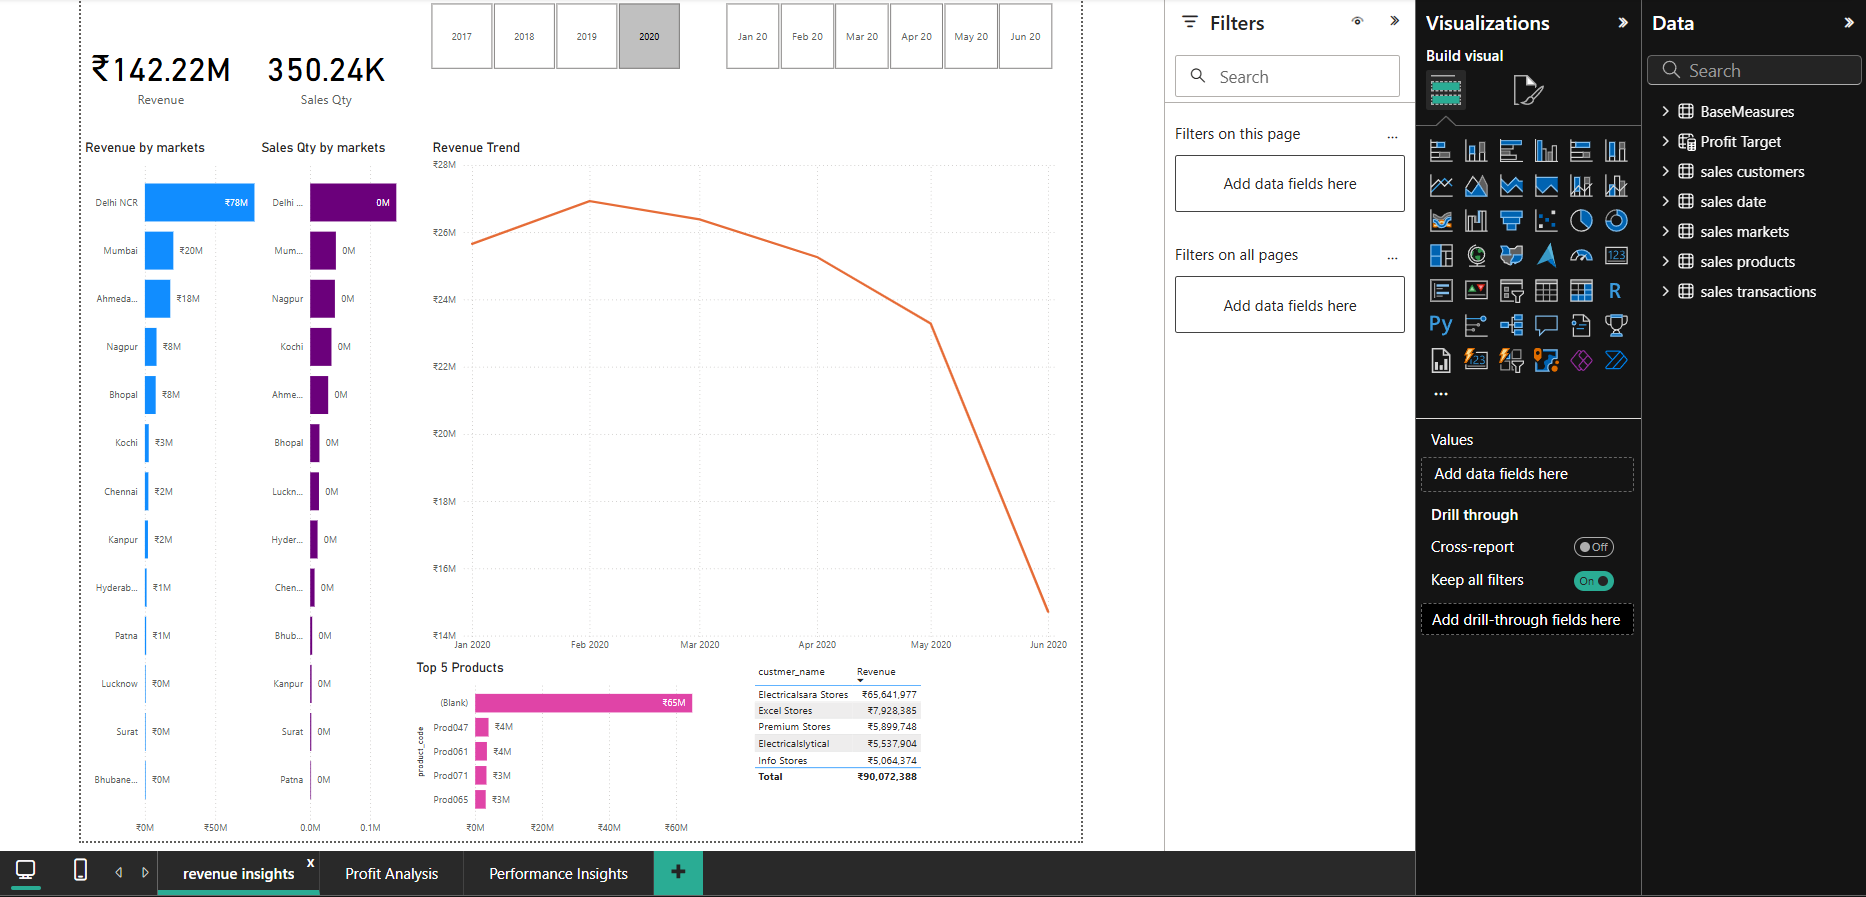

Layout of this report page (visuals, bound fields, positions):
{"tool":"powerbi","page":{"name":"Key insights","canvas":[1280,1080],"ordinal":0},"visuals":[{"type":"card","fields":{"Values":["BaseMeasures.Revenue"]},"box":[0,0,204.8,196.4],"z":0},{"type":"card","fields":{"Values":["BaseMeasures.Sales Qty"]},"box":[204.8,0,218.7,196.4],"z":1000},{"type":"barChart","title":"Revenue by markets","fields":{"Y":["BaseMeasures.Revenue"],"Category":["sales markets.markets_name"]},"box":[0,180.9,275.3,899.5],"z":2000},{"type":"barChart","title":"Sales Qty by markets","fields":{"Y":["BaseMeasures.Sales Qty"],"Category":["sales markets.markets_name"]},"box":[225.7,180.9,219.3,899.5],"z":3000},{"type":"slicer","fields":{"Values":["sales date.year"]},"box":[422.5,0,368.1,97.6],"z":4000},{"type":"slicer","fields":{"Values":["sales date.cy_date"]},"box":[800.2,0,467.3,97.6],"z":5000},{"type":"tableEx","title":"Top 5 Costumers","fields":{"Values":["sales customers.custmer_name","BaseMeasures.Revenue"]},"box":[856.3,846.7,424.1,233.7],"z":6000},{"type":"barChart","title":"Top 5 Products","fields":{"Y":["BaseMeasures.Revenue"],"Category":["sales products.product_code"]},"box":[424.1,846.7,416.1,233.7],"z":7000},{"type":"lineChart","title":"Revenue Trend","fields":{"Y":["BaseMeasures.Revenue"],"Category":["sales date.cy_date"]},"box":[444.9,180.9,822.6,665.8],"z":8000}]}

Visuals, with their boxes on the page's 1280x1080 design canvas (x1, y1, x2, y2). These are canvas units, not pixel positions in the 1866x897 screenshot, which may show the page scaled, cropped or inside an application window:
card - BaseMeasures.Revenue: [x1=0, y1=0, x2=205, y2=196]
card - BaseMeasures.Sales Qty: [x1=205, y1=0, x2=424, y2=196]
"Revenue by markets" barChart: [x1=0, y1=181, x2=275, y2=1080]
"Sales Qty by markets" barChart: [x1=226, y1=181, x2=445, y2=1080]
slicer - sales date.year: [x1=422, y1=0, x2=791, y2=98]
slicer - sales date.cy_date: [x1=800, y1=0, x2=1268, y2=98]
"Top 5 Costumers" tableEx: [x1=856, y1=847, x2=1280, y2=1080]
"Top 5 Products" barChart: [x1=424, y1=847, x2=840, y2=1080]
"Revenue Trend" lineChart: [x1=445, y1=181, x2=1268, y2=847]
